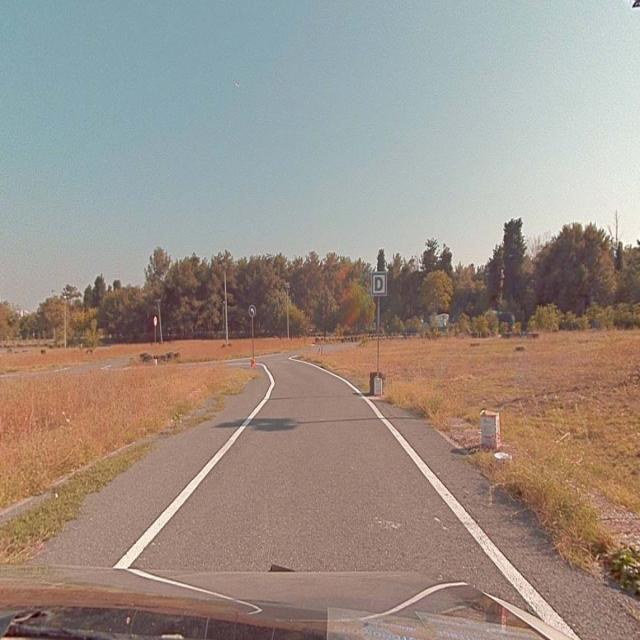durak: (370, 271, 386, 296)
sol: (249, 304, 255, 316)
